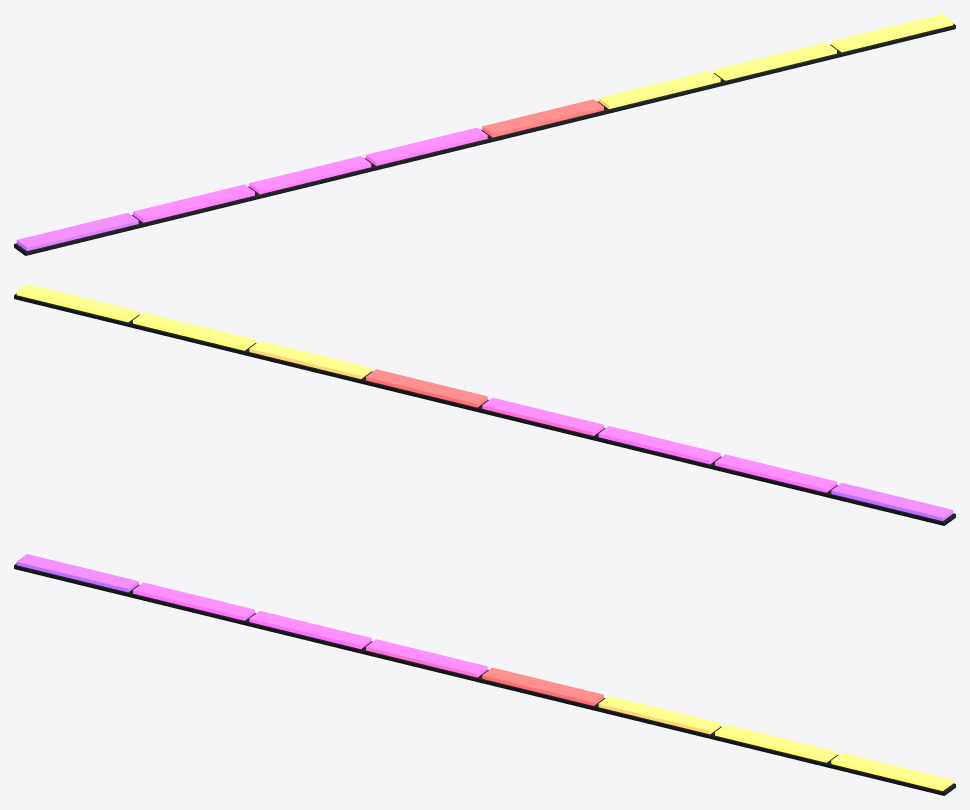
The picture shows the model from 3 angles, top to bottom: view 1: azimuth 30°, elevation 25°; view 2: azimuth 150°, elevation 25°; view 3: azimuth 330°, elevation 25°; orthographic projection.
Visible parts, largest first — view 1: part_087; view 2: part_087; view 3: part_087.
Part boxes in pixels (left/top/right/bottom): part_087: left=14, top=14, right=955, bottom=255; part_087: left=14, top=284, right=955, bottom=525; part_087: left=14, top=554, right=955, bottom=795.
Size of the model in its own units: 4.6 by 0.0375 by 0.1.
